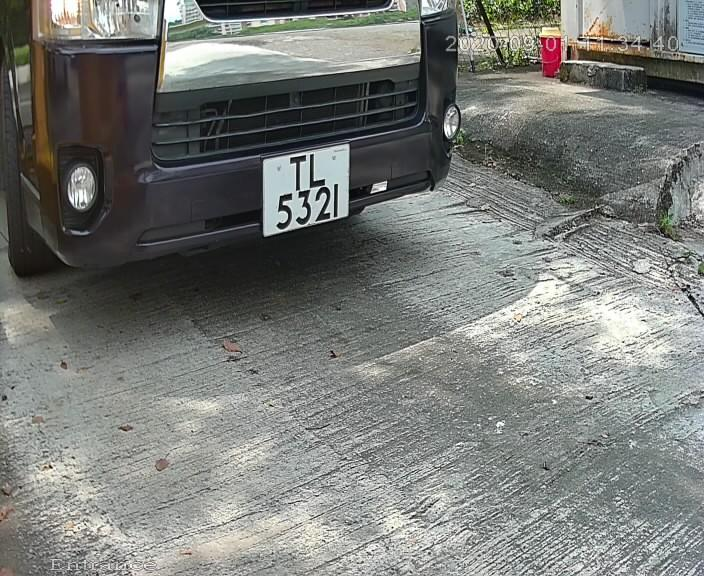Car: (19, 1, 516, 322)
License Plate: (252, 145, 359, 237)
